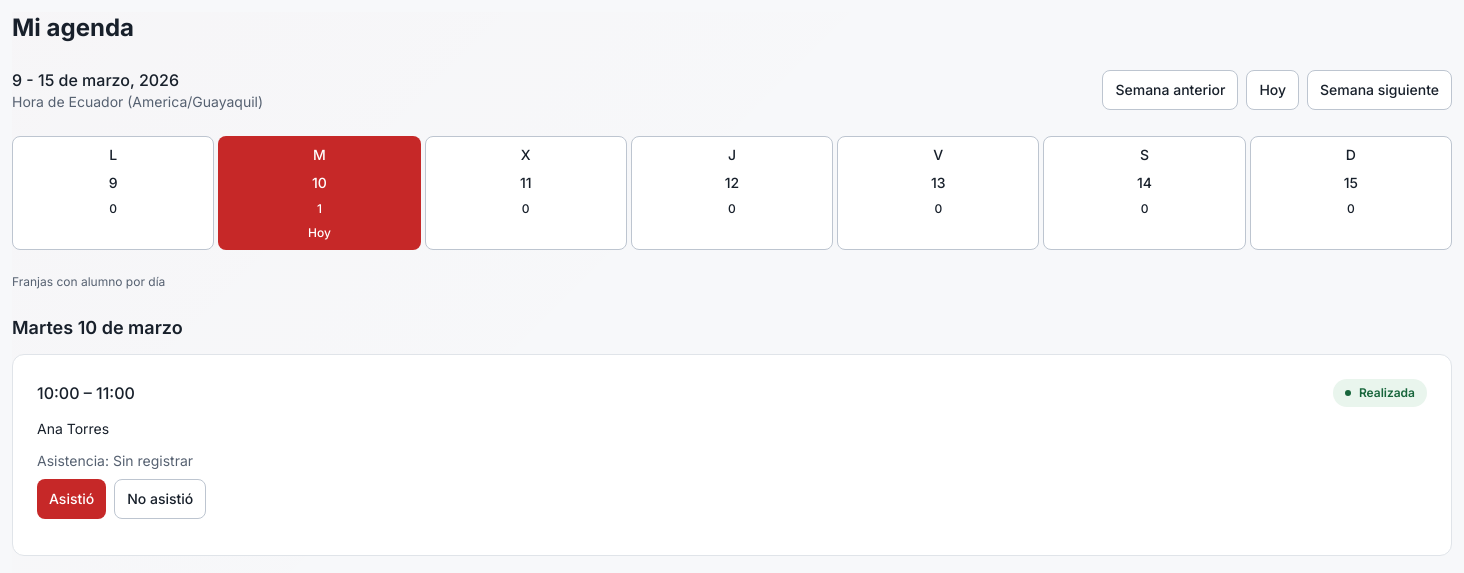
Test case: agenda diaria del instructor › registra attended=true sin confirmación y conserva el nombre del alumno
Check: the text "Ana Torres" is shown, box [37, 420, 109, 437]
Click the button "Asistió" at x=72, y=499, box [37, 479, 106, 519]
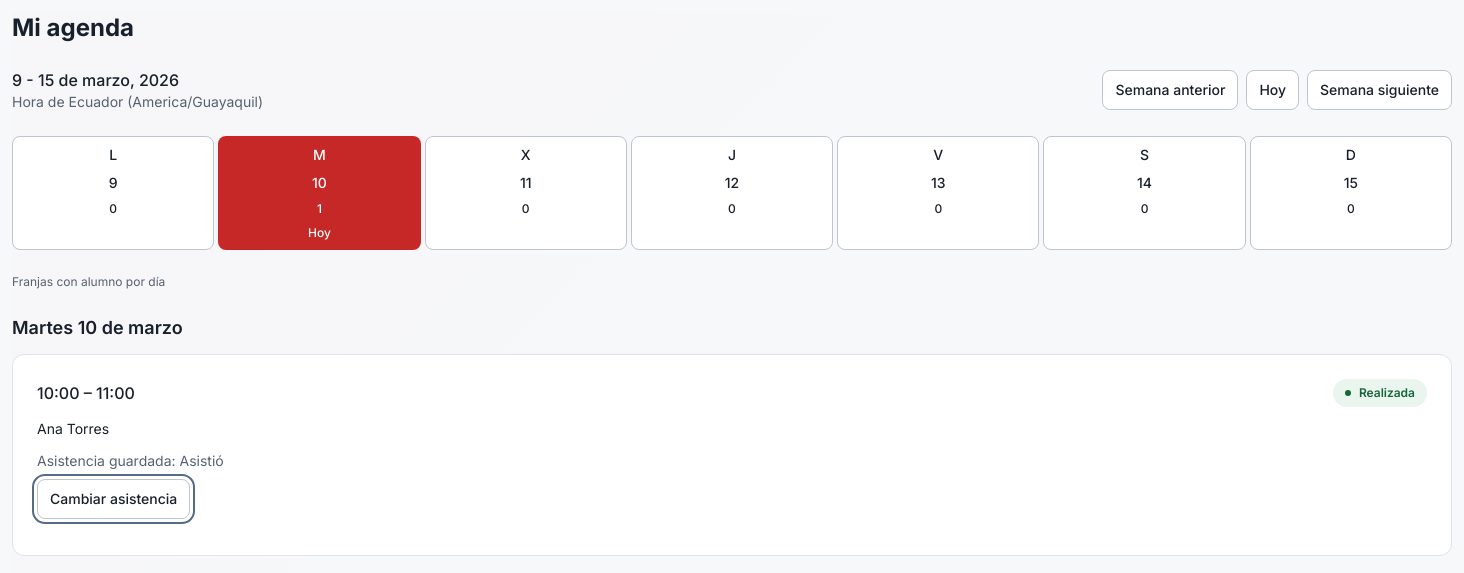
Check: the text "Ana Torres" is shown, box [37, 420, 109, 437]
Check: the text "Asistencia guardada: Asistió" is shown, box [37, 452, 224, 469]
